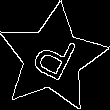P_SW: (25, 28, 80, 89)
